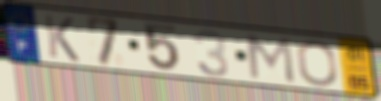3: (193, 28, 230, 78)
5: (140, 21, 182, 73)
7: (83, 14, 123, 68)
K: (41, 12, 82, 64)
M: (244, 33, 298, 86)
O: (295, 39, 339, 88)
